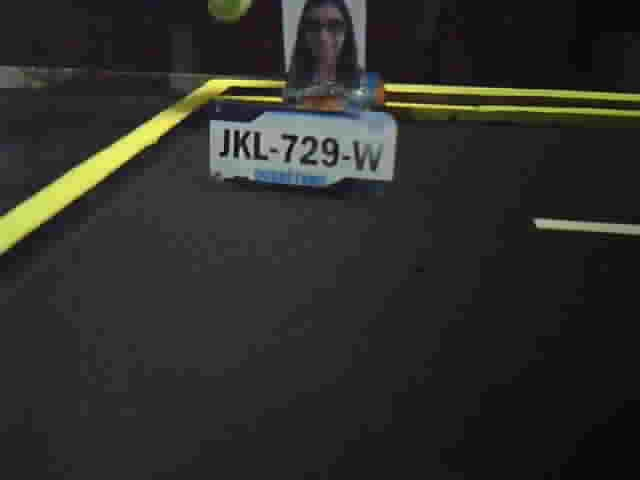PLACA: (206, 98, 404, 204)
ROSTRO: (286, 1, 365, 91)
